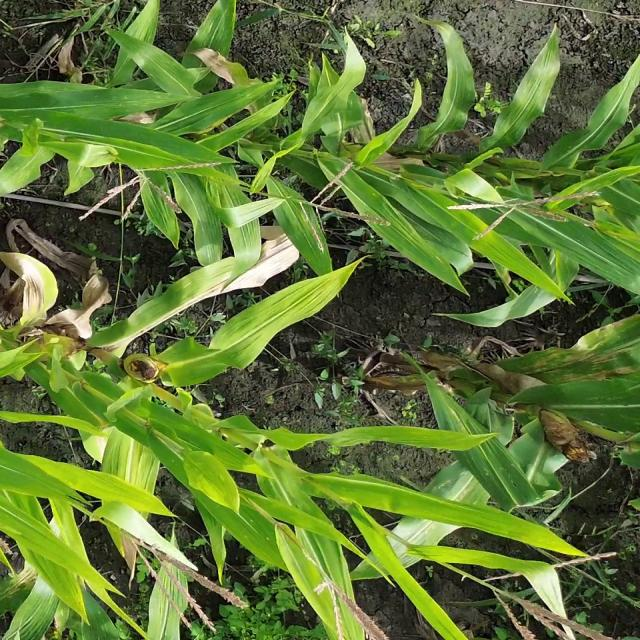gray-leaf-spot: (542, 338, 632, 382), (198, 12, 239, 49), (106, 90, 173, 110), (0, 163, 40, 193)
northern-leaf-blight: (110, 310, 195, 355), (85, 430, 117, 460)
southern-leaf-blight: (228, 507, 276, 546), (81, 604, 111, 640)
